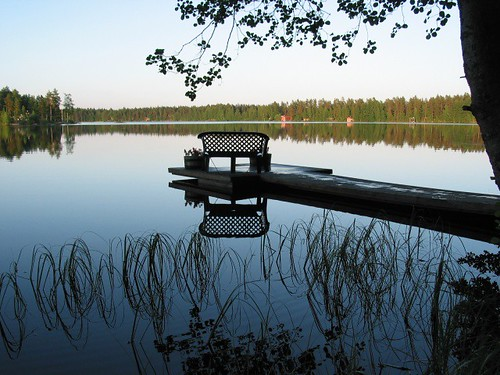bench: (203, 126, 274, 171)
river: (3, 122, 500, 375)
sky: (1, 1, 462, 86)
